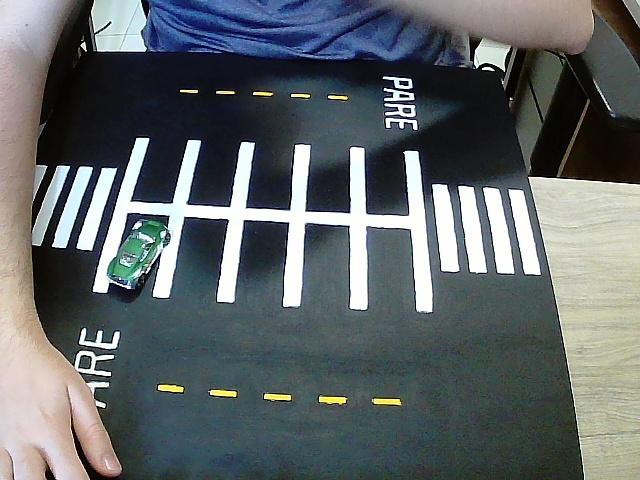Carro: (104, 221, 169, 294)
